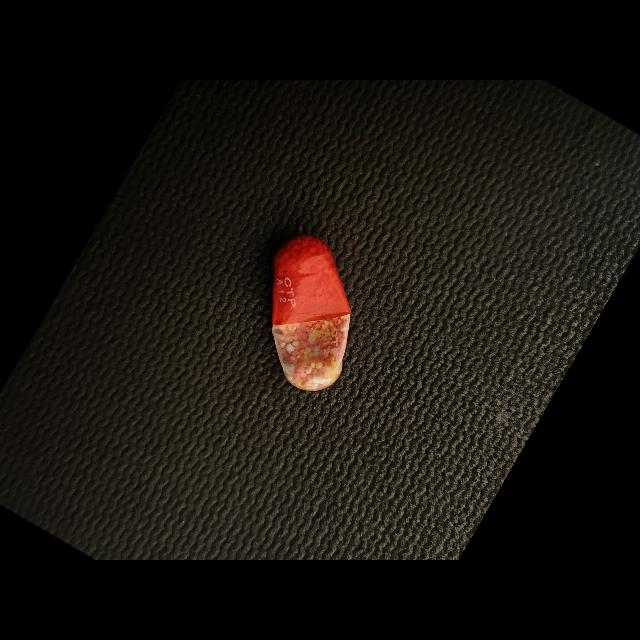Defective Capsule: (272, 236, 352, 391)
